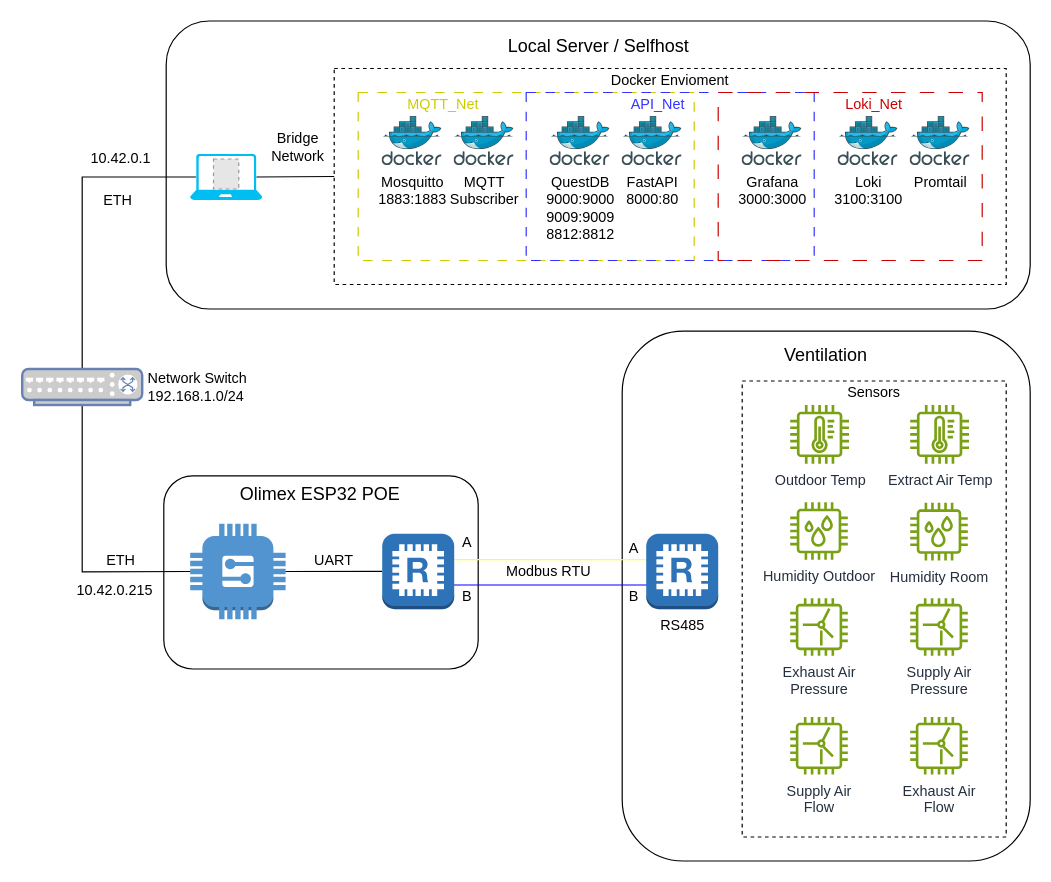
The diagram is 1051 pixels wide and 882 high, and some of its shapes have lost their labels. Grey dashed boxes stand in for pictures. Each missing label, with the box of its shape:
ESP32: (189, 523, 286, 619)
Linux PC: (190, 153, 262, 199)
RS485 Module: (381, 532, 454, 609)
